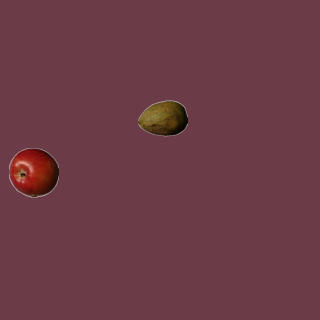Apple Braeburn: (8, 147, 58, 197)
Papaya: (137, 93, 187, 143)
